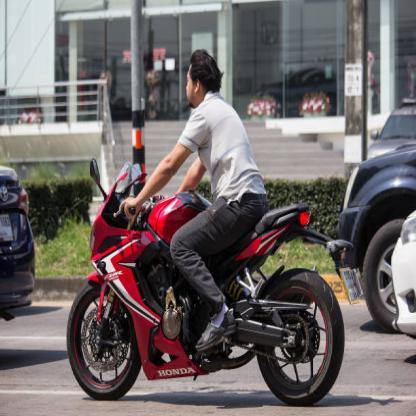Motorcycle: (62, 157, 346, 409)
